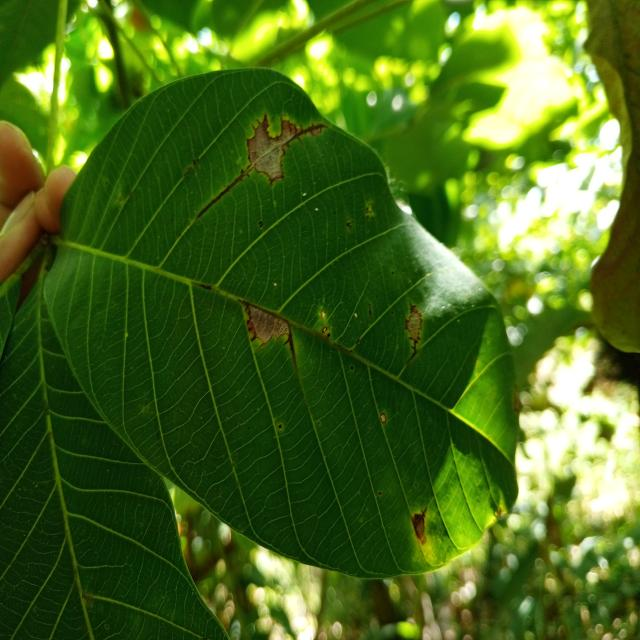Colletotrichum: (380, 412, 387, 424), (258, 221, 264, 228), (327, 333, 331, 338), (278, 424, 282, 429), (350, 366, 354, 370)
Corynespora: (195, 165, 253, 219), (238, 299, 288, 323), (282, 122, 328, 148), (404, 303, 422, 363), (284, 322, 297, 370), (411, 508, 428, 536)
Leaf-Blight: (248, 116, 296, 180), (407, 314, 421, 341)
